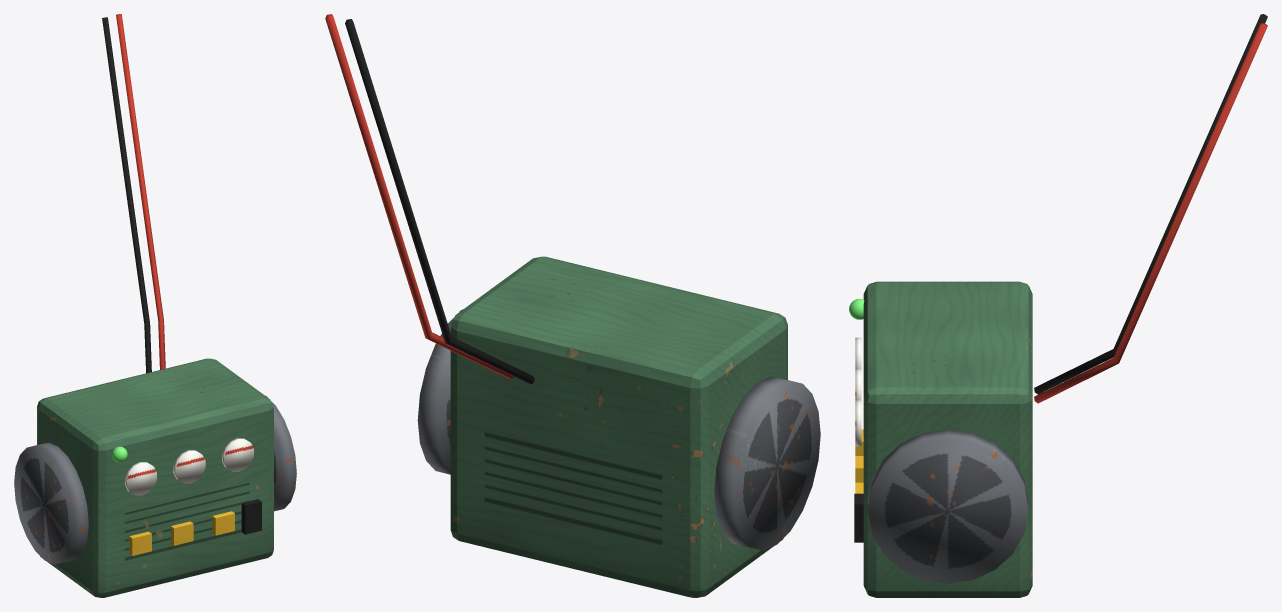
Rendered from generator.glb.
3 views of the same model, side by side, from view 1: azimuth 30°, elevation 25°; view 2: azimuth 150°, elevation 25°; view 3: azimuth 270°, elevation 25° (orthographic). The views are drawn at different scales.
Parts seen in each view (by area): view 1: Generator; view 2: Generator; view 3: Generator.
Part boxes in pixels (x1,y1,x2,y2): Generator: (14,14,296,597); Generator: (325,14,820,597); Generator: (849,14,1267,597).
Bounding box in the file's own units: 1.6 × 3.01 × 1.99.
Materials: 1 (1 with a texture image).
